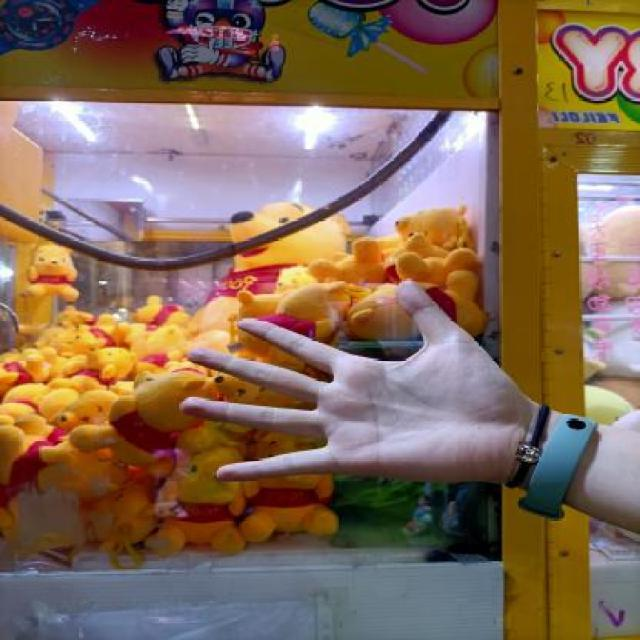bare_hand: (168, 260, 580, 522)
